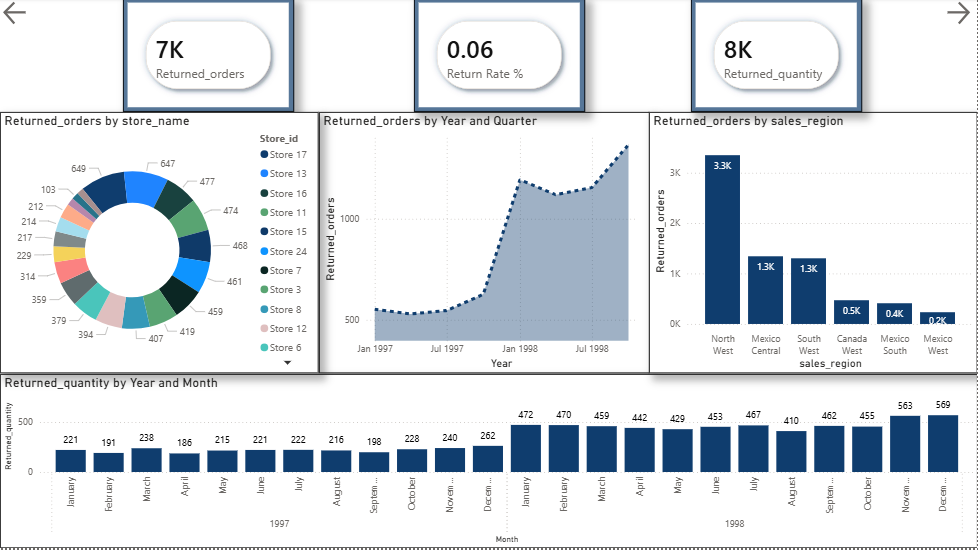

This screenshot's page, from the dashboard's own definition file:
{"tool":"powerbi","page":{"name":"Return anlaysis","canvas":[1280,720],"ordinal":3},"visuals":[{"type":"cardVisual","fields":{"Data":["Returns.Returned_orders"]},"box":[161,0,223.9,149.3],"z":0},{"type":"lineChart","fields":{"Y":["Returns.Returned_orders"],"Category":["Returns.return_date.Variation.Date Hierarchy.Year","Returns.return_date.Variation.Date Hierarchy.Quarter"]},"box":[417.1,149.3,433.2,342.4],"z":1000},{"type":"lineStackedColumnComboChart","fields":{"Y":["Returns.Returned_quantity"],"Category":["Returns.return_date.Variation.Date Hierarchy.Year","Returns.return_date.Variation.Date Hierarchy.Month"]},"box":[0,491.7,1280.5,228.3],"z":2000},{"type":"donutChart","fields":{"Category":["Stores.store_name"],"Y":["Returns.Returned_orders"]},"box":[0,149.3,417.1,342.4],"z":3000},{"type":"clusteredColumnChart","fields":{"Y":["Returns.Returned_orders"],"Category":["Regions.sales_region"]},"box":[850.2,149.3,430.2,342.4],"z":4000},{"type":"cardVisual","fields":{"Data":["Returns.Return Rate %"]},"box":[541.5,0,223.9,149.3],"z":5000},{"type":"cardVisual","fields":{"Data":["Returns.Returned_quantity"]},"box":[904.4,0,223.9,149.3],"z":6000},{"type":"actionButton","box":[0,0,41,39.5],"z":7000},{"type":"actionButton","box":[1235.1,0,45.4,39.5],"z":8000}]}

Visuals, with their boxes in screenshot pixels (x1, y1, x2, y2), scaled from the page's 1280x720 canvas onto the 978x553 screenshot:
cardVisual - Returns.Returned_orders: crop(123, 0, 294, 115)
lineChart - Returns.Returned_orders x Returns.return_date.Variation.Date Hierarchy.Year: crop(319, 115, 650, 378)
lineStackedColumnComboChart - Returns.Returned_quantity x Returns.return_date.Variation.Date Hierarchy.Year: crop(0, 378, 977, 552)
donutChart - Stores.store_name x Returns.Returned_orders: crop(0, 115, 319, 378)
clusteredColumnChart - Returns.Returned_orders x Regions.sales_region: crop(650, 115, 977, 378)
cardVisual - Returns.Return Rate %: crop(414, 0, 585, 115)
cardVisual - Returns.Returned_quantity: crop(691, 0, 862, 115)
actionButton: crop(0, 0, 31, 30)
actionButton: crop(944, 0, 977, 30)
